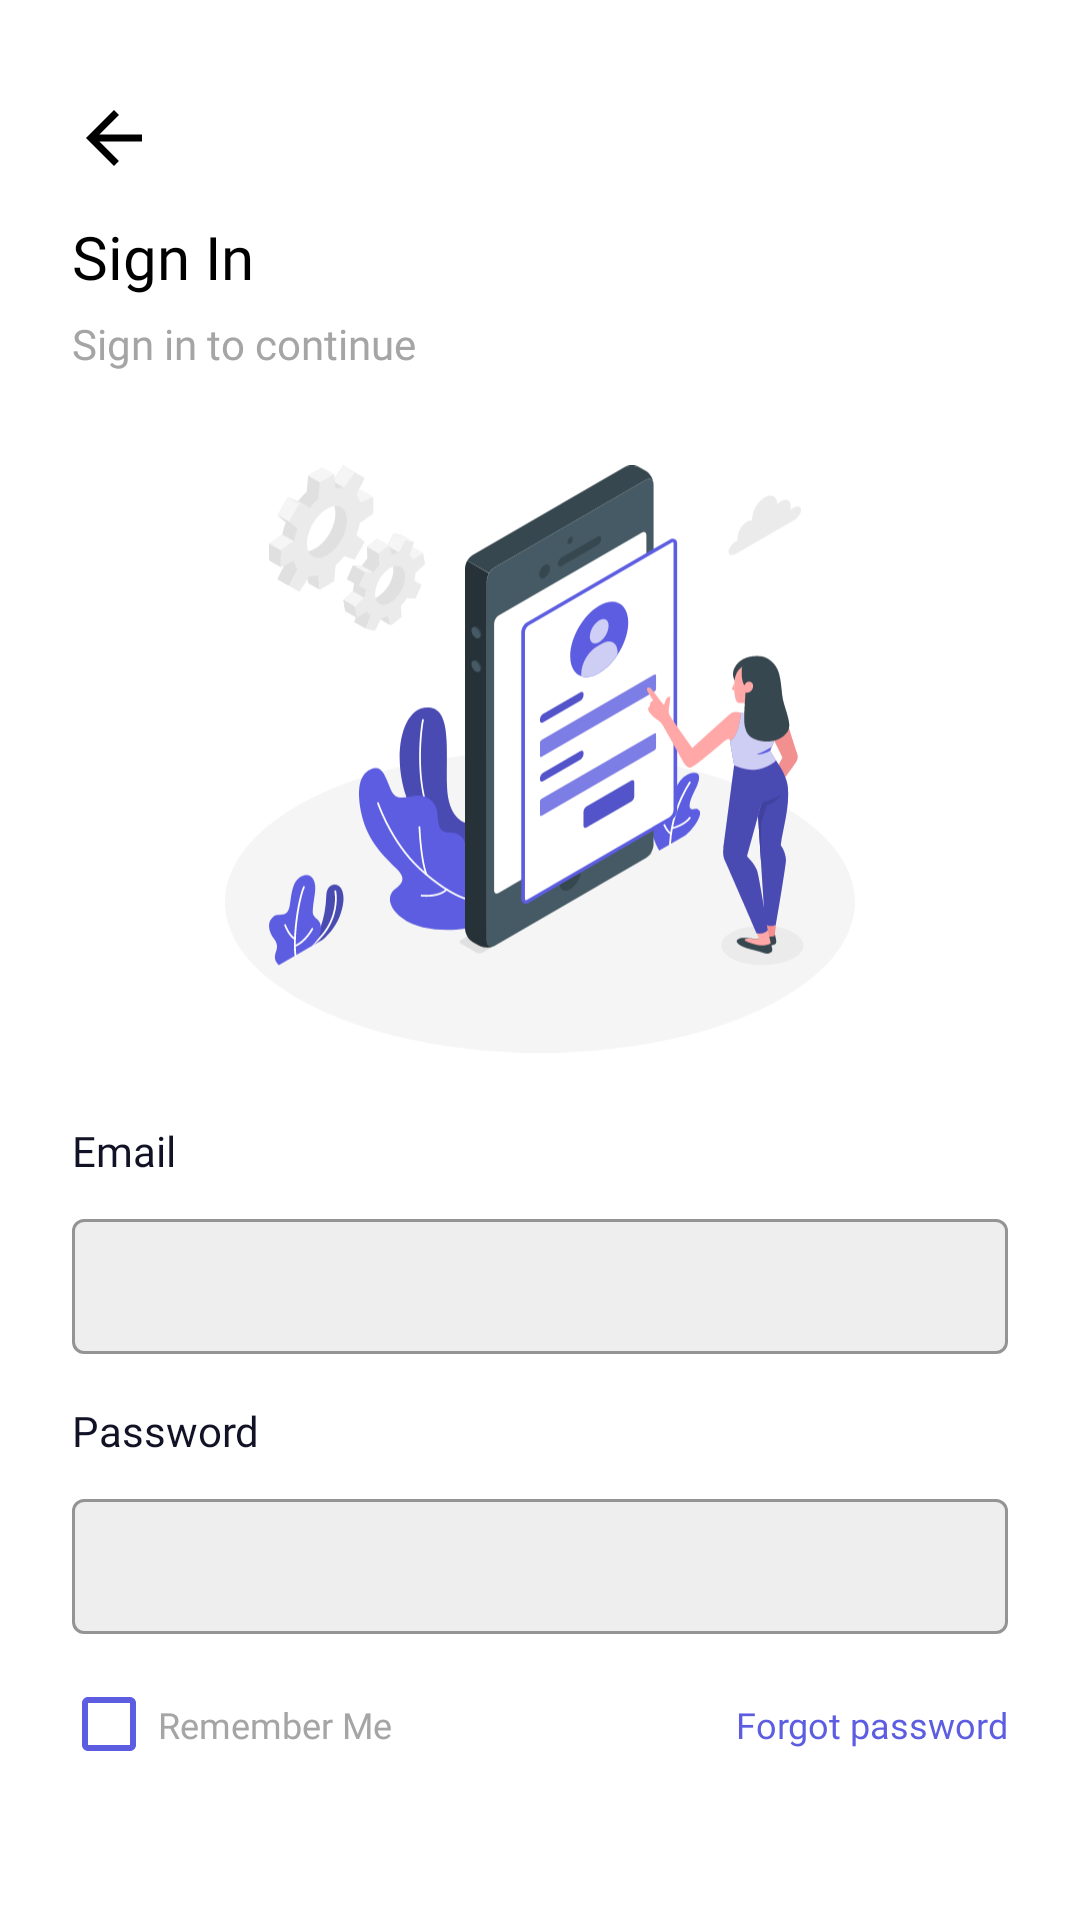

Where to tap for icons on this 1080×1920 app screen, as point (x, y):
arrow back: point (114, 138)
